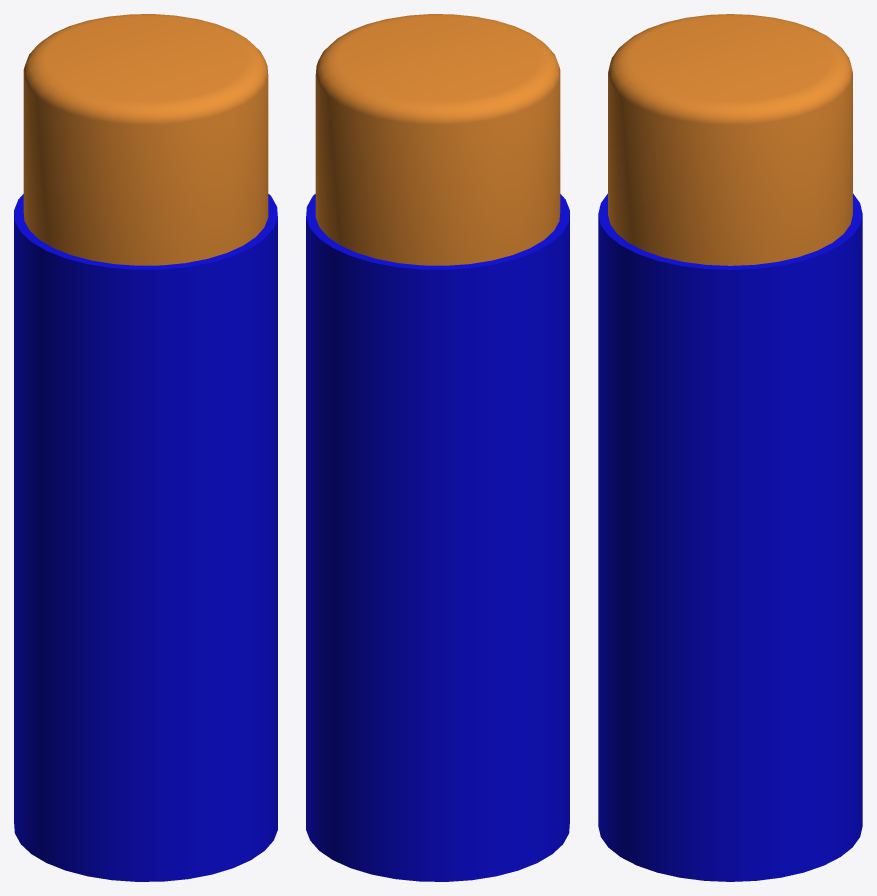
File: bullet.fbx
3 views of the same model, side by side, from view 1: azimuth 30°, elevation 25°; view 2: azimuth 150°, elevation 25°; view 3: azimuth 270°, elevation 25° (orthographic).
Parts seen in each view (by area): view 1: DartBase, DartTop; view 2: DartBase, DartTop; view 3: DartBase, DartTop.
Boxes of the visible parts, x1=… form: DartBase: x1=14, y1=194, x2=277, y2=881; DartTop: x1=23, y1=14, x2=268, y2=265; DartBase: x1=306, y1=194, x2=569, y2=881; DartTop: x1=315, y1=14, x2=560, y2=265; DartBase: x1=598, y1=193, x2=862, y2=881; DartTop: x1=608, y1=14, x2=852, y2=265.
Size of the model in its own units: 200 by 640 by 200.
